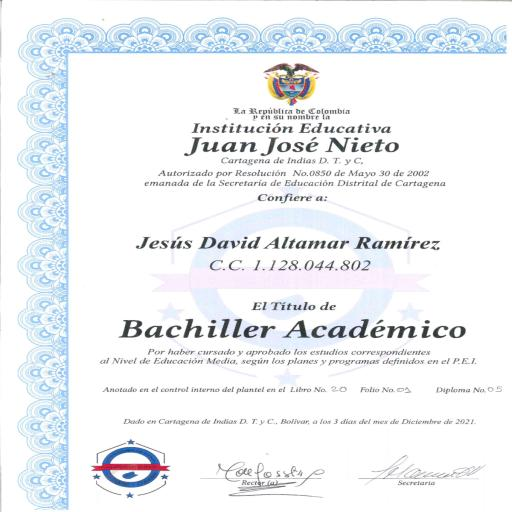bachillerato: (107, 310, 476, 350)
diploma: (0, 0, 512, 512), (1, 0, 511, 511)
escudo: (250, 57, 341, 109)
firma: (188, 449, 354, 510), (365, 452, 506, 508)
institucion: (149, 116, 420, 158)
nombre: (122, 229, 459, 259)
